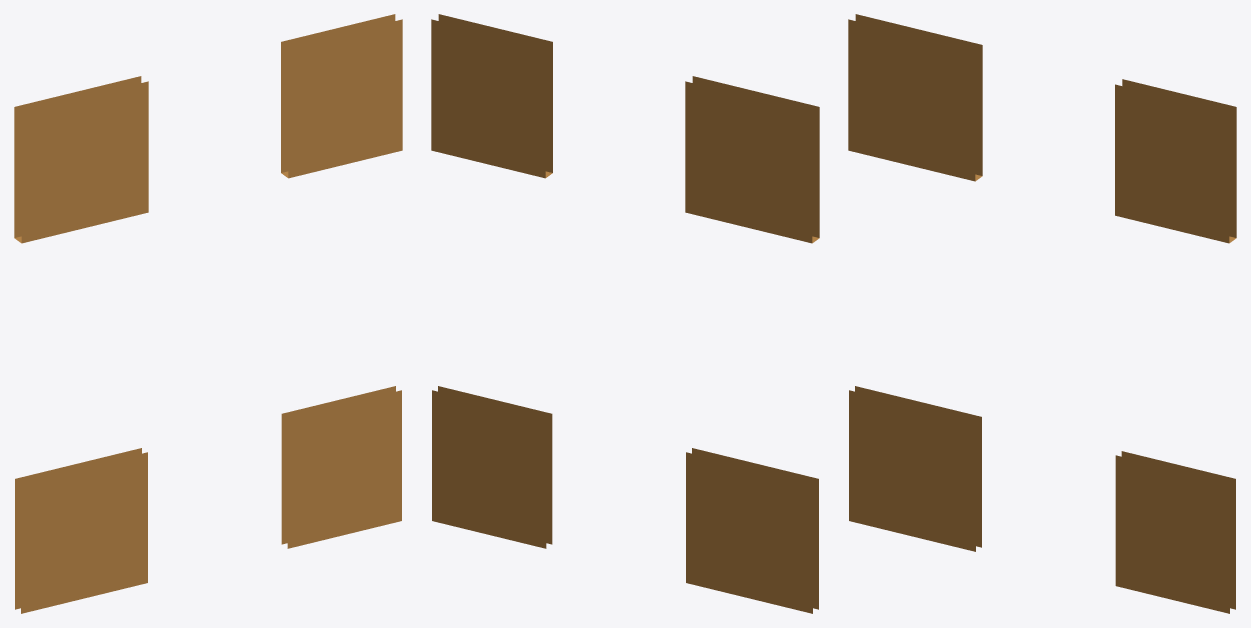
Rendered from finestre do.fbx.
The picture shows the model from 3 angles, left to right: view 1: azimuth 30°, elevation 25°; view 2: azimuth 150°, elevation 25°; view 3: azimuth 330°, elevation 25°; orthographic projection.
Parts seen in each view (by area): view 1: muri_e_struttura_4; view 2: muri_e_struttura_4; view 3: muri_e_struttura_4.
Part boxes in pixels (x1=…): muri_e_struttura_4: x1=14, y1=14, x2=402, y2=613; muri_e_struttura_4: x1=431, y1=14, x2=819, y2=613; muri_e_struttura_4: x1=848, y1=14, x2=1236, y2=613.
Bounding box in the file's own units: 300 × 378 × 10.
